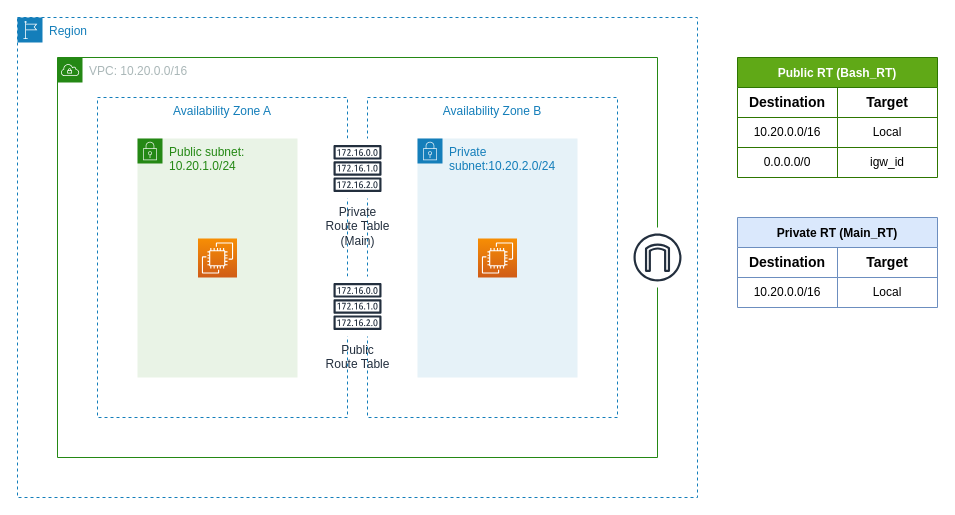
Image size: 955x515. Some labels were removed from this diagram. The shapes that lost their labels are listed below. From the top down, each one's centre as x and y in pixels, then its label:
[217,258]: Public EC2 Instance (Bastion Host)
[497,258]: Private EC2 Instance
[657,257]: Internet Gateway
